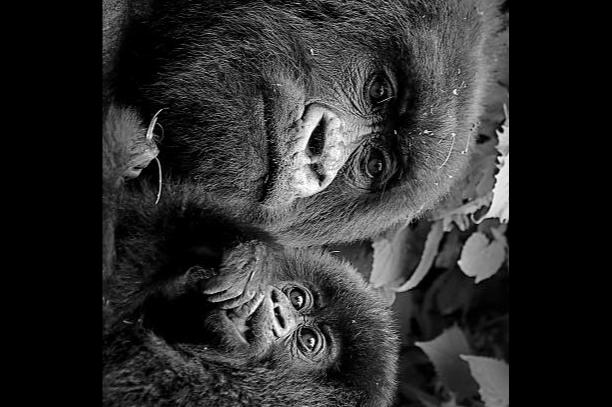goriile_montagne: (102, 0, 509, 242), (108, 240, 414, 407)
